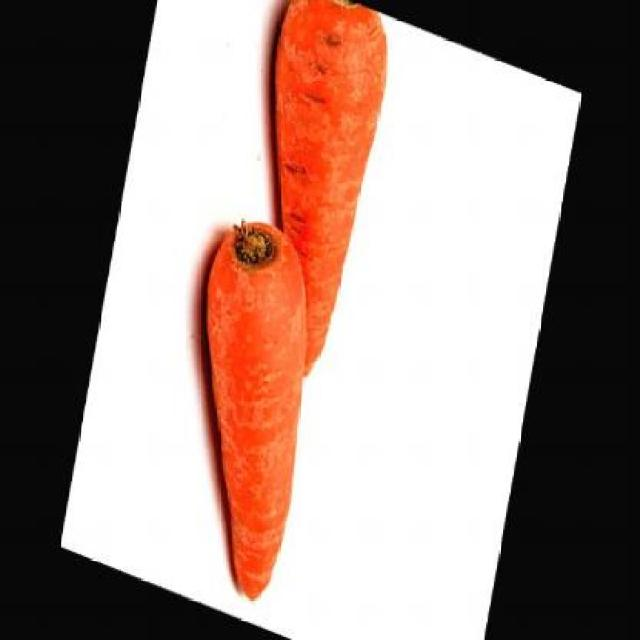carrot: (156, 205, 338, 610), (223, 0, 399, 391)
